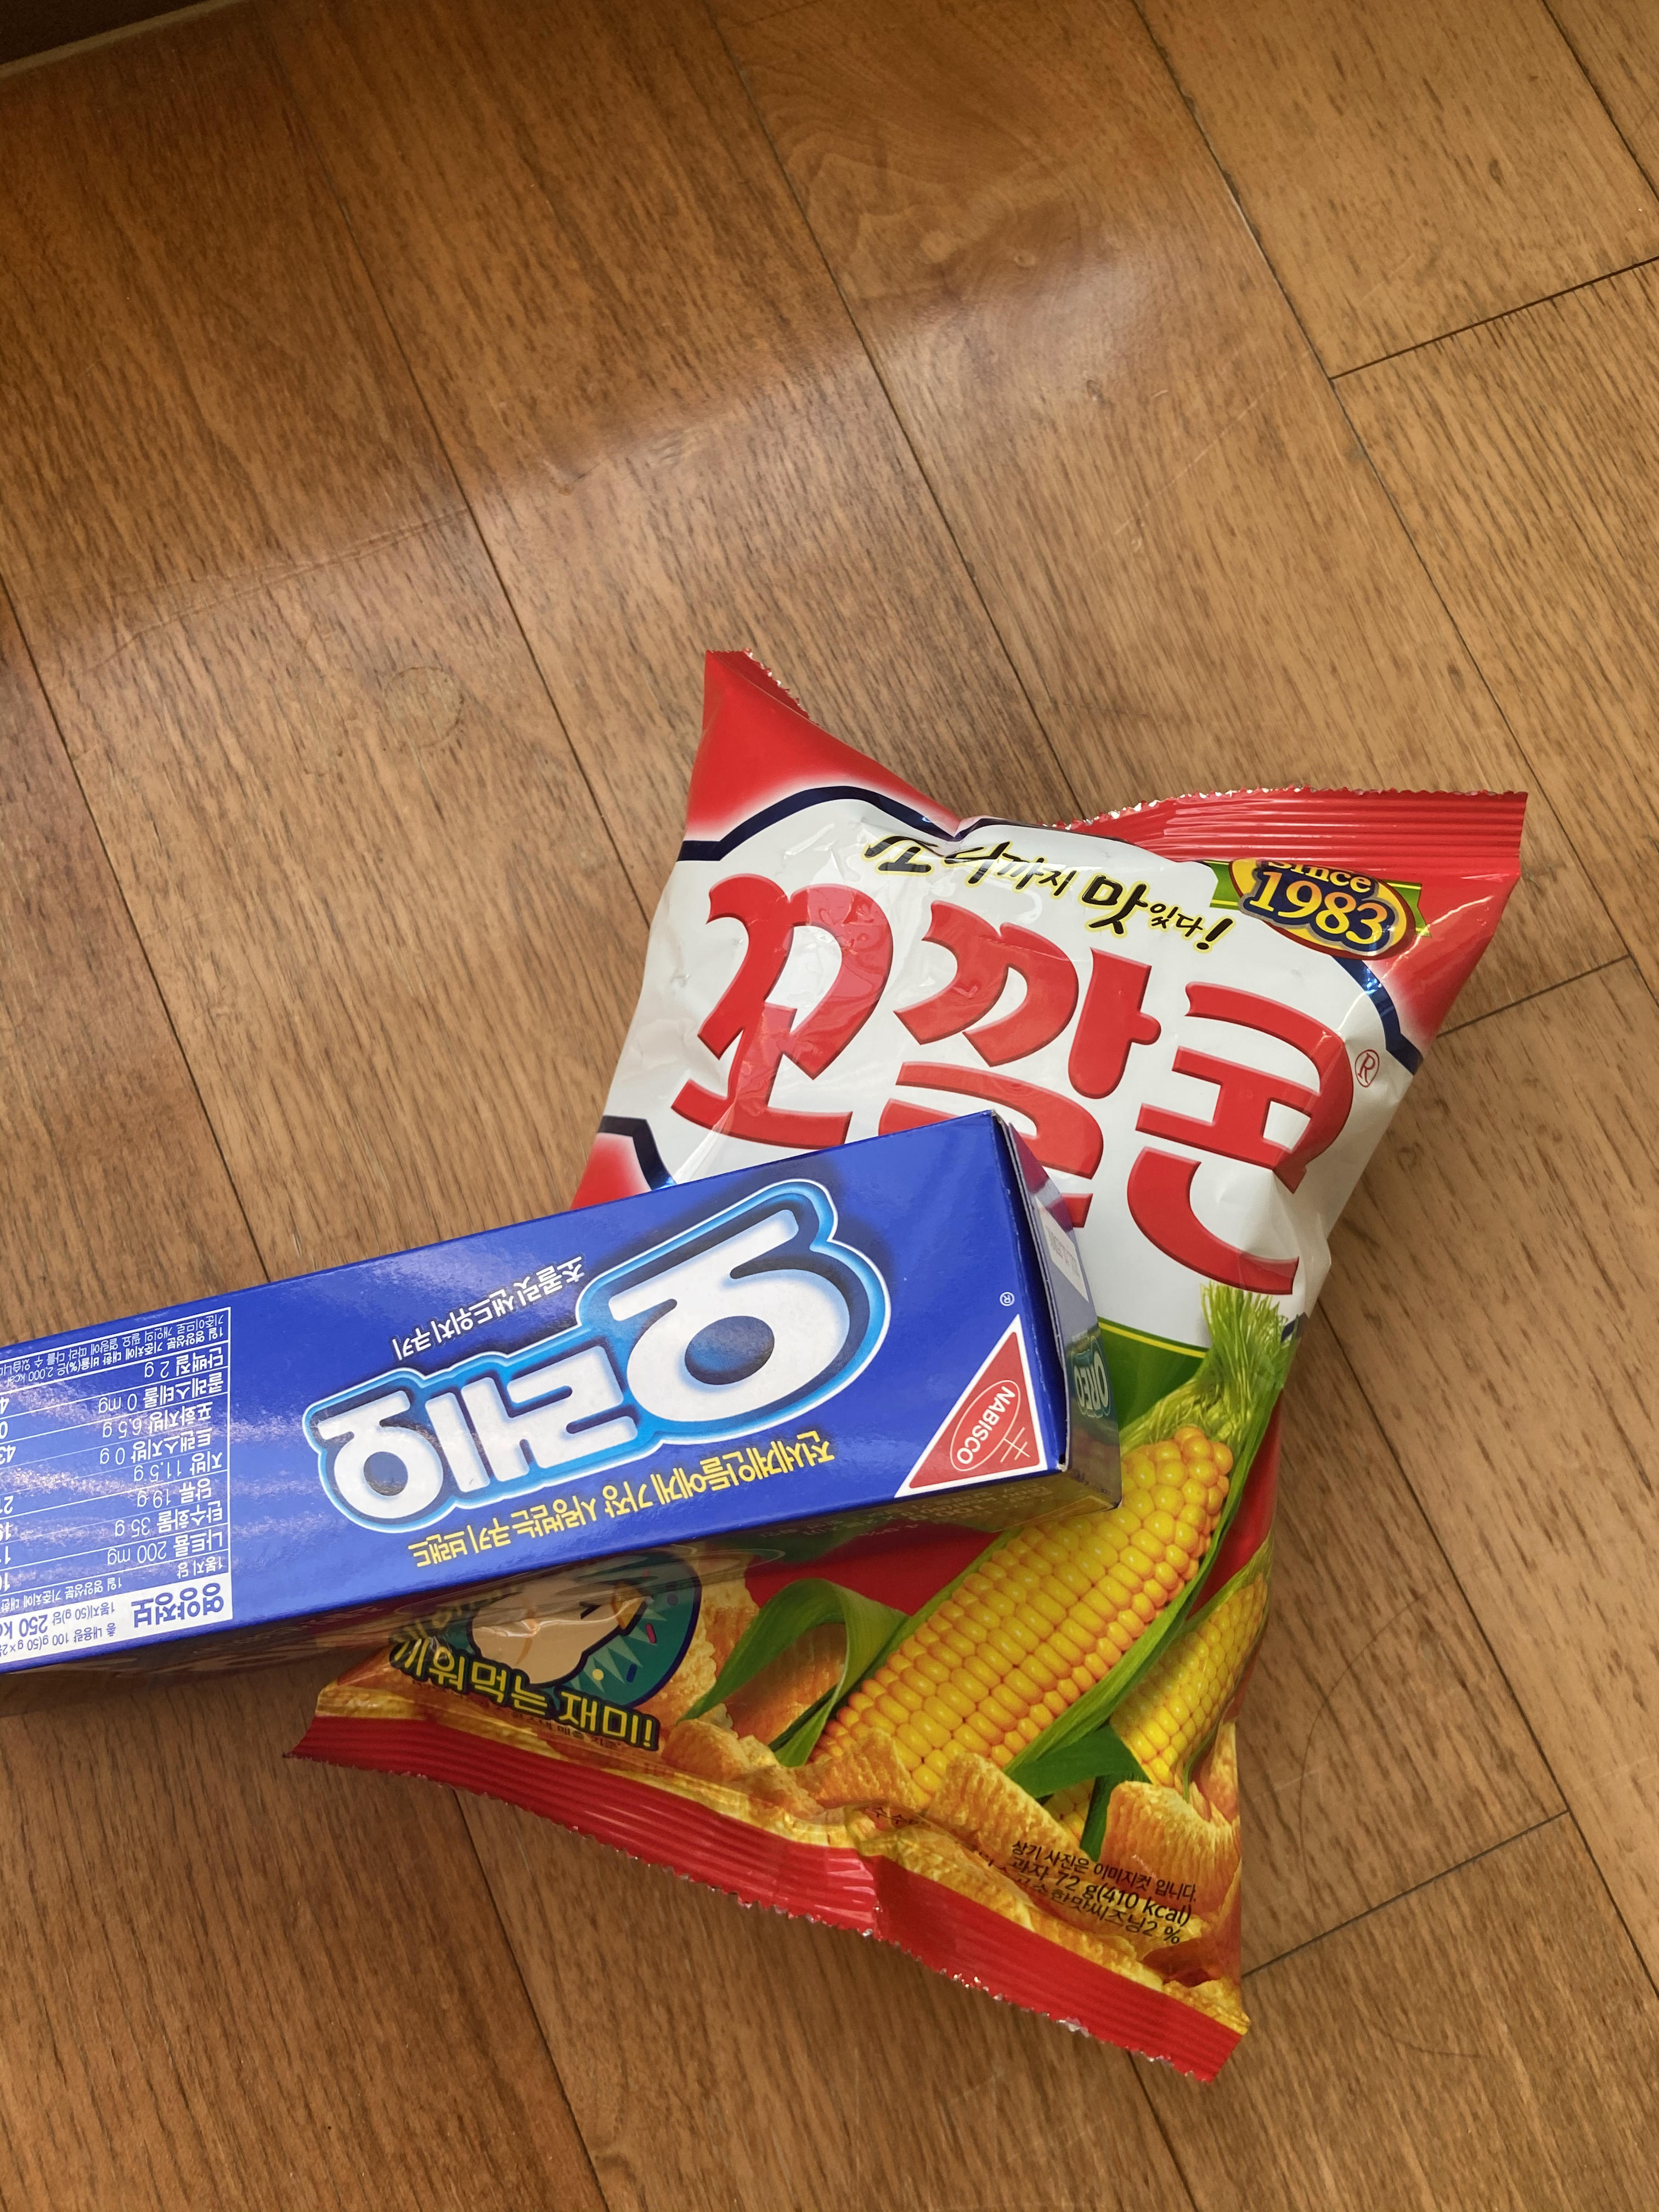ggoggalcon: (282, 629, 1544, 2097)
oreo: (0, 1094, 1138, 1723)
